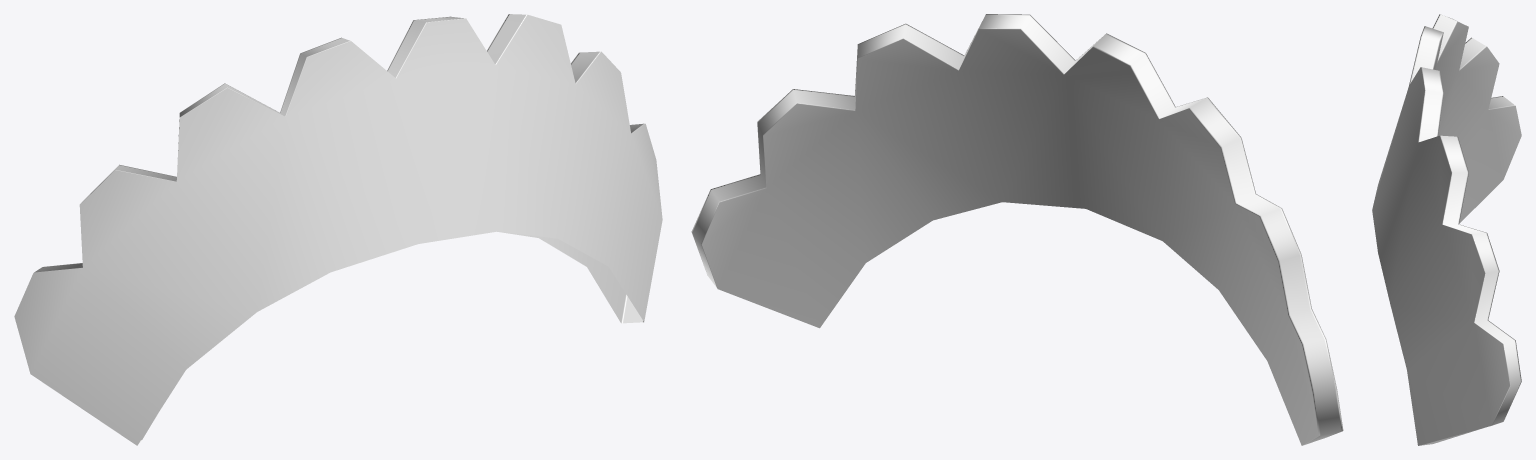
File: Hat_031.glb
3 views of the same model, side by side, from view 1: azimuth 30°, elevation 25°; view 2: azimuth 150°, elevation 25°; view 3: azimuth 270°, elevation 25° (orthographic). The views are drawn at different scales.
Parts seen in each view (by area): view 1: Hat_031; view 2: Hat_031; view 3: Hat_031.
Part boxes in pixels (left/top/right/bottom): Hat_031: left=14, top=14, right=662, bottom=445; Hat_031: left=691, top=14, right=1343, bottom=445; Hat_031: left=1372, top=14, right=1521, bottom=445.
Size of the model in its own units: 0.4993 by 0.2643 by 0.1214.
Materials: 1 (1 with a texture image).
